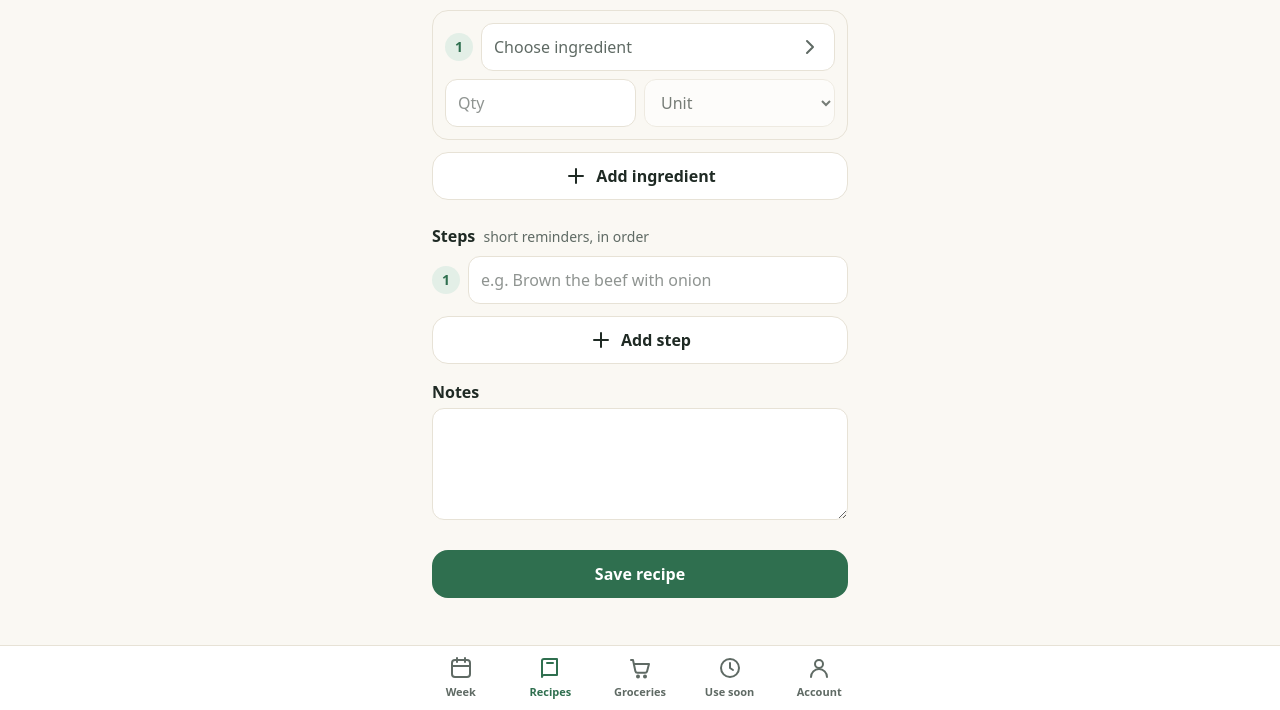
recipe form › shows validation errors before anything is picked
This screenshot has width=1280, height=710.
(page scrolled)
Click the button "Save recipe": (640, 574) [432,550,848,598]
(page scrolled)
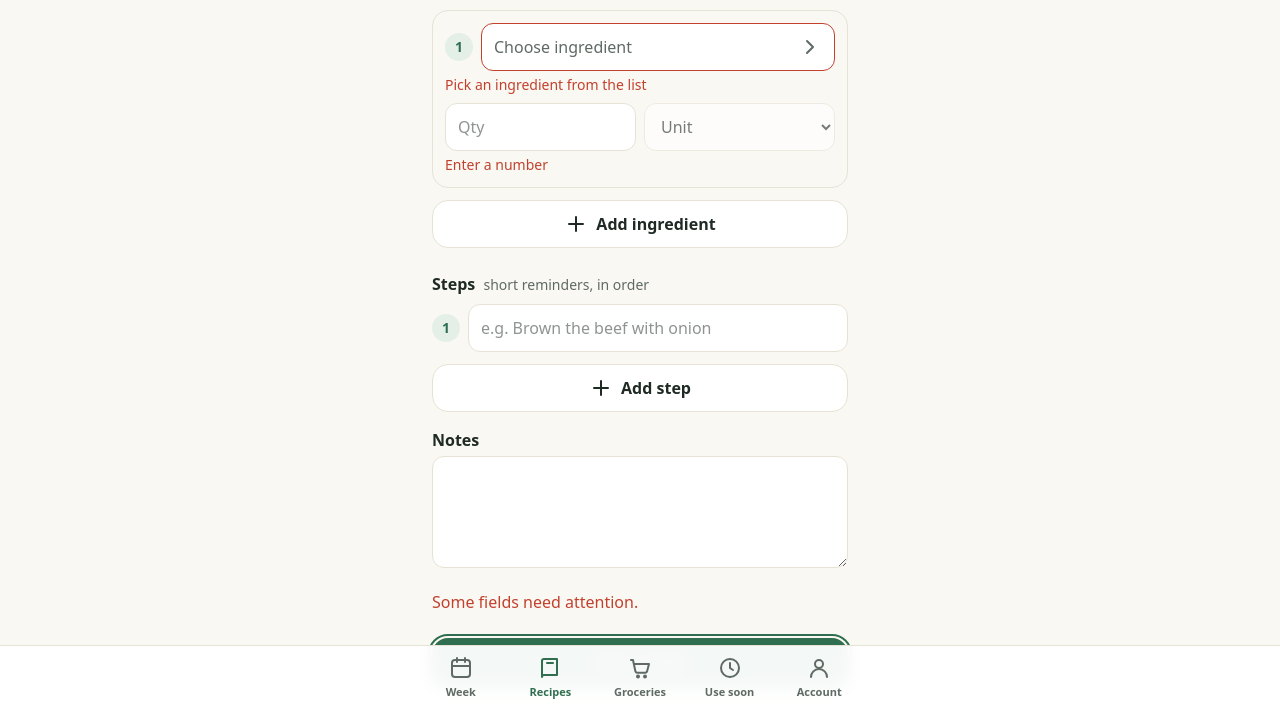
Expected: the text "Pick an ingredient from the list" is shown, [445,75,646,94]
